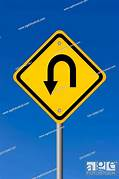back: (11, 30, 107, 123)
